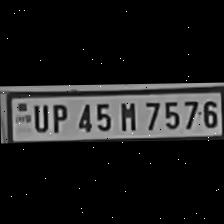4: (70, 99, 93, 130)
5: (91, 97, 113, 130), (160, 97, 180, 129)
6: (197, 96, 219, 127)
7: (139, 98, 161, 130), (178, 96, 198, 127)
M: (113, 97, 139, 130)
P: (47, 100, 69, 132)
U: (28, 100, 50, 131)
